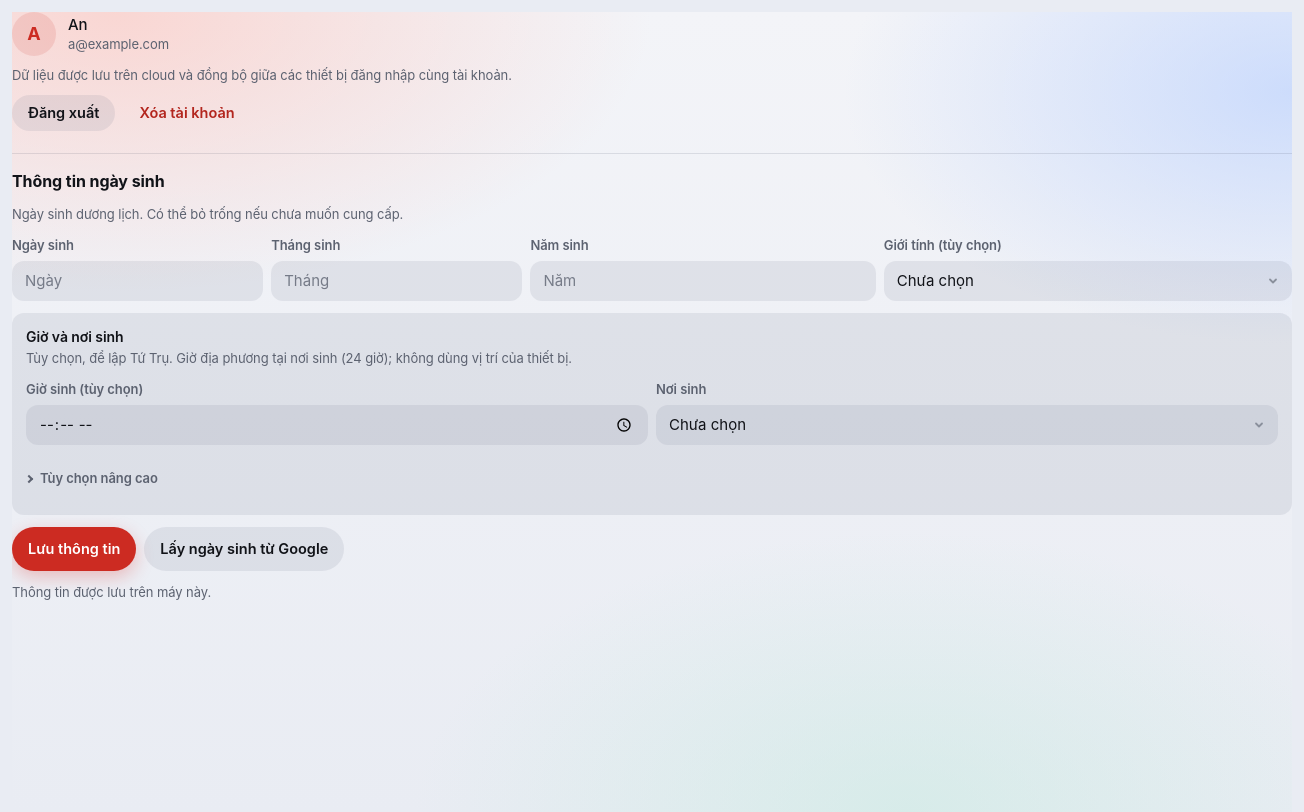
Test: Thông tin ngày sinh trong Tài khoản › Google thiếu năm sinh thì điền ngày tháng và yêu cầu bổ sung năm
The width and height of the screenshot is (1304, 812).
Expected: the number field labelled "Ngày sinh" is shown, [12,261,263,301]
Click the button "Lấy ngày sinh từ Google" at (244, 549), box [144,527,344,571]
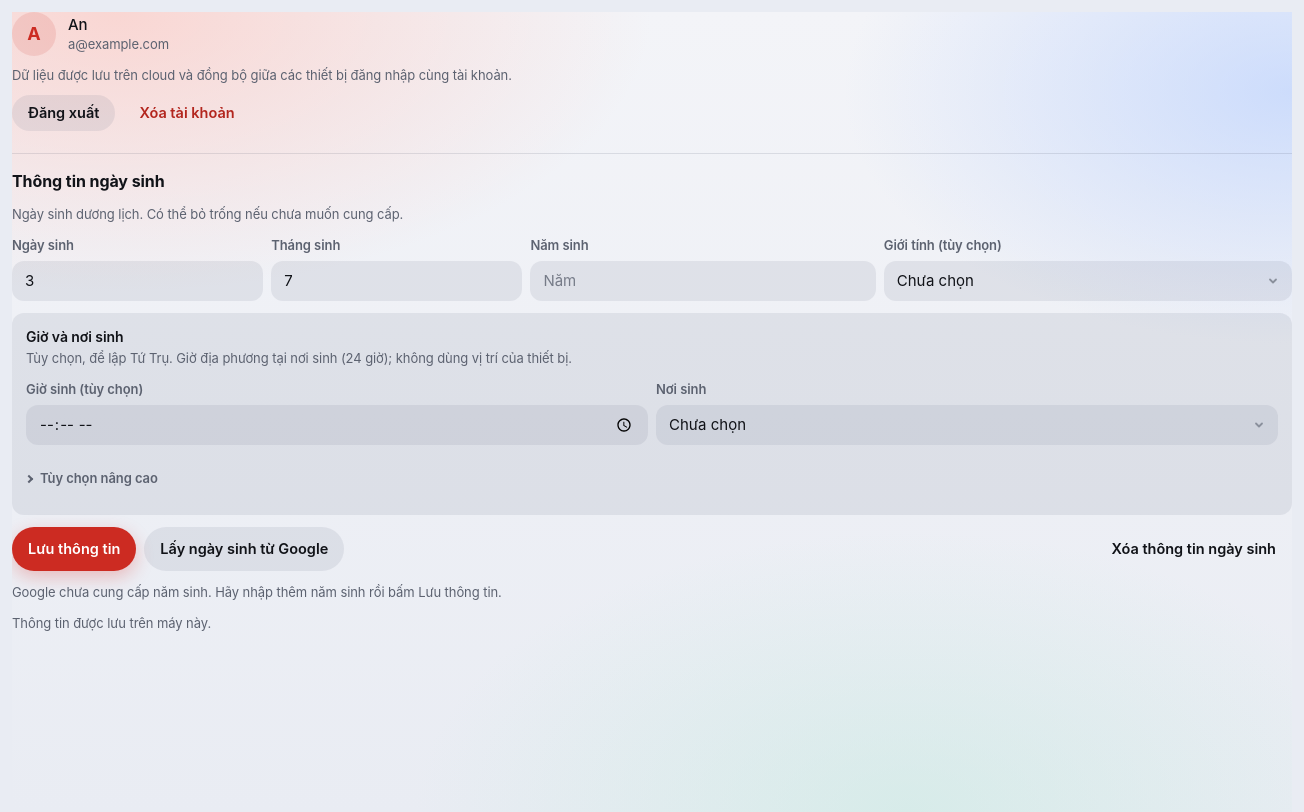
Expected: the number field labelled "Năm sinh" is not empty, [530,261,876,301]
Result: the text "Google chưa cung cấp năm sinh. Hãy nhập thêm năm sinh rồi bấm Lưu thông tin." is shown at [12,584,502,600]
Result: the number field labelled "Ngày sinh" holds "3" at [12,261,263,301]
